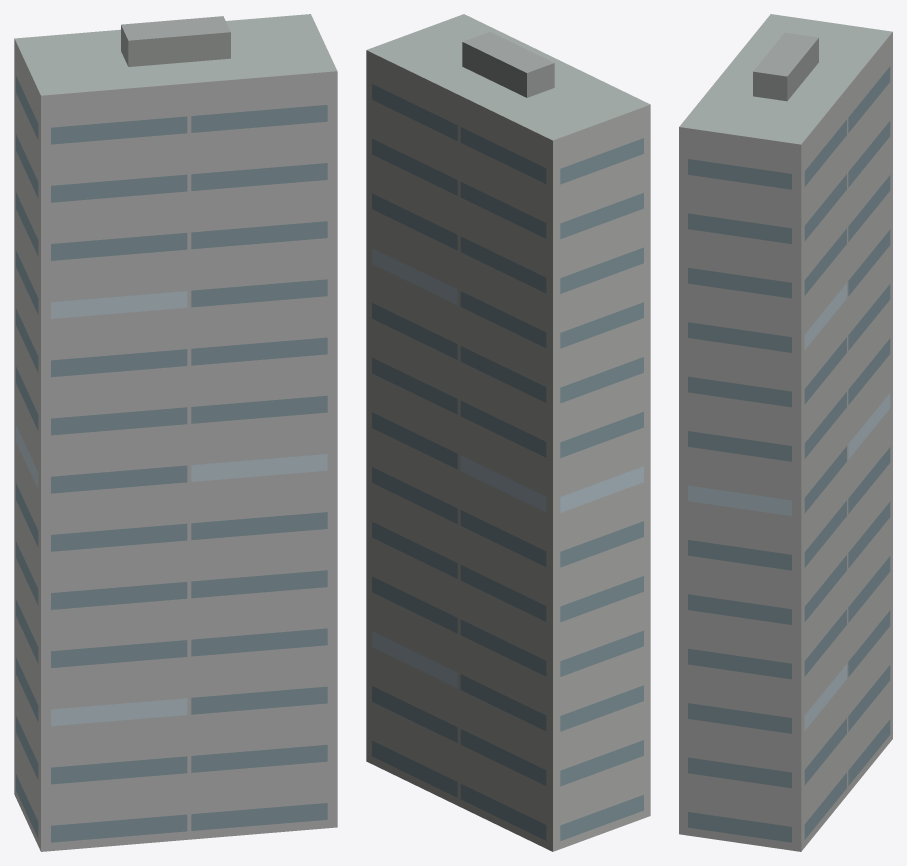
The model's file is fallback-jamsil-els-105.glb.
The picture shows the model from 3 angles, left to right: view 1: azimuth 30°, elevation 25°; view 2: azimuth 150°, elevation 25°; view 3: azimuth 270°, elevation 25°; orthographic projection. The views are drawn at different scales.
Parts seen in each view (by area): view 1: fallback-jamsil-els-105; view 2: fallback-jamsil-els-105; view 3: fallback-jamsil-els-105.
Boxes of the visible parts, x1,y1,x2,y2 form: fallback-jamsil-els-105: (14,14,337,851); fallback-jamsil-els-105: (366,14,650,851); fallback-jamsil-els-105: (679,14,892,851).
Bounding box in the file's own units: 27.17 × 71 × 18.79.
